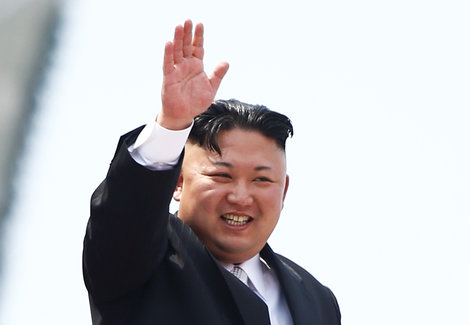face: (179, 124, 288, 265)
hand: (155, 18, 228, 126)
